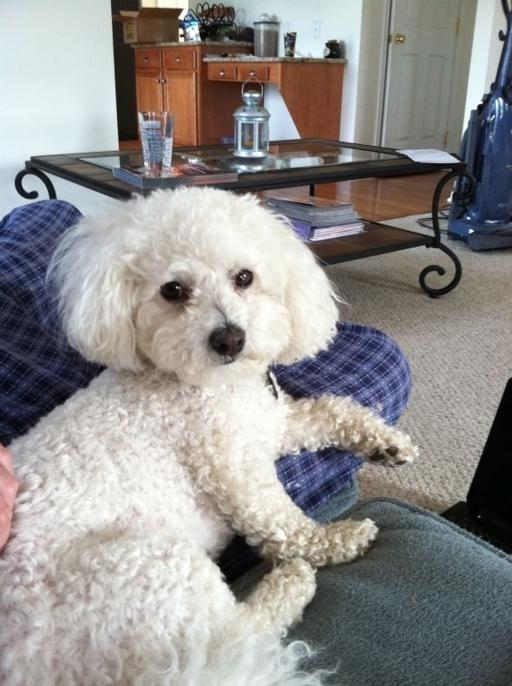dog: (0, 188, 417, 685)
